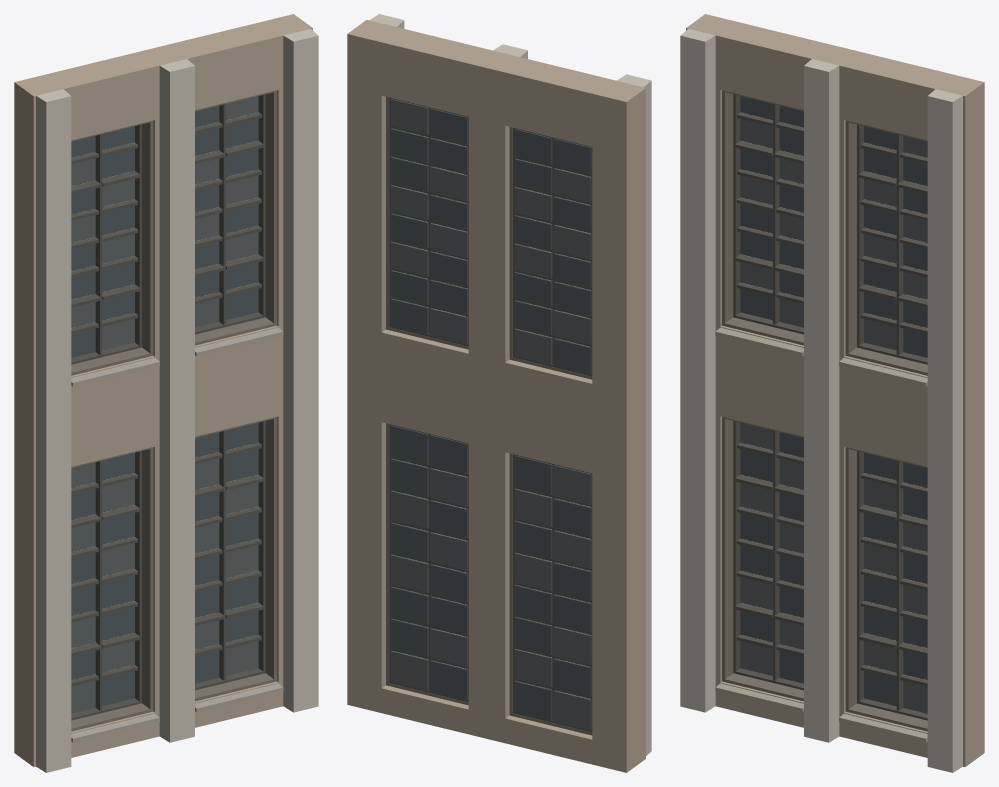
The model's file is xuhui-georgia-apartments-stair-window-fins-lod.glb.
The picture shows the model from 3 angles, left to right: view 1: azimuth 30°, elevation 25°; view 2: azimuth 150°, elevation 25°; view 3: azimuth 330°, elevation 25°; orthographic projection.
Parts seen in each view (by area): view 1: 会斯乐公寓衡山路楼梯间竖窗与水泥线板; view 2: 会斯乐公寓衡山路楼梯间竖窗与水泥线板; view 3: 会斯乐公寓衡山路楼梯间竖窗与水泥线板.
Boxes of the visible parts, x1=… form: 会斯乐公寓衡山路楼梯间竖窗与水泥线板: x1=14, y1=14, x2=318, y2=772; 会斯乐公寓衡山路楼梯间竖窗与水泥线板: x1=347, y1=14, x2=651, y2=772; 会斯乐公寓衡山路楼梯间竖窗与水泥线板: x1=680, y1=14, x2=984, y2=772.
Bounding box in the file's own units: 2.49 × 5.72 × 0.44.
